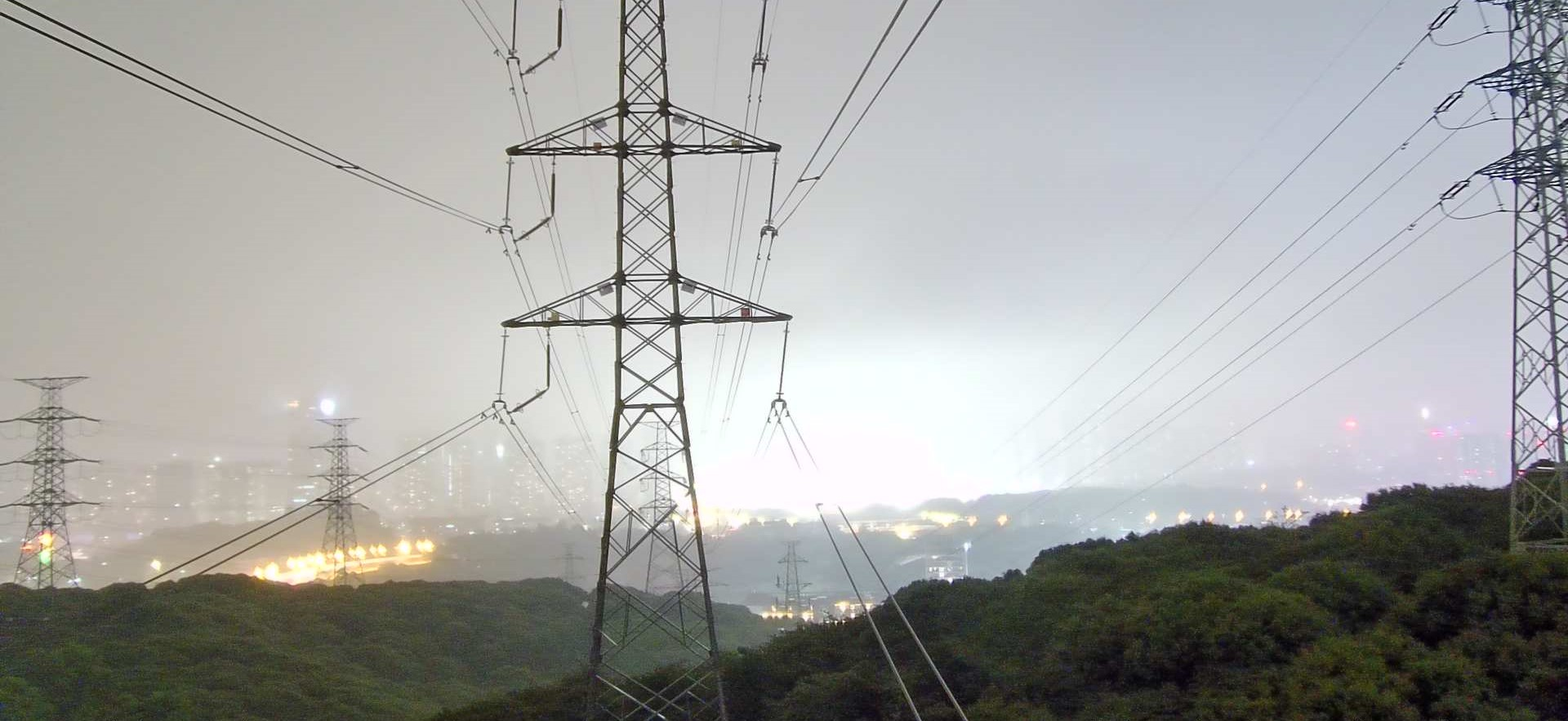过爆灯光: (641, 372, 863, 534), (863, 381, 982, 510), (280, 543, 378, 585), (982, 470, 1058, 496), (378, 539, 434, 565), (918, 509, 959, 526), (38, 532, 52, 563), (892, 523, 918, 538), (262, 562, 280, 581), (760, 612, 792, 619), (320, 399, 334, 414), (834, 601, 851, 612), (149, 559, 161, 570), (252, 566, 262, 578), (802, 611, 813, 621), (997, 515, 1007, 524), (771, 605, 776, 611), (866, 603, 871, 609), (850, 612, 854, 619)
